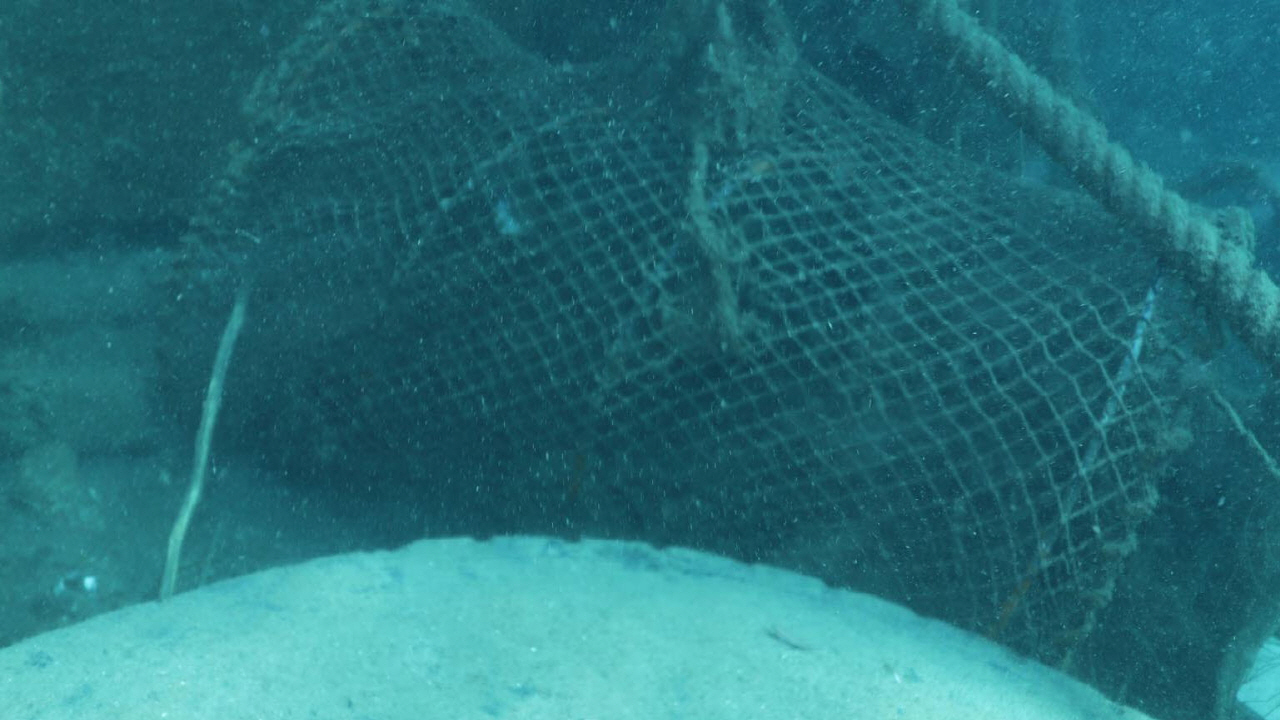rope: (906, 0, 1280, 353)
spring fish trap: (151, 2, 1254, 677)
